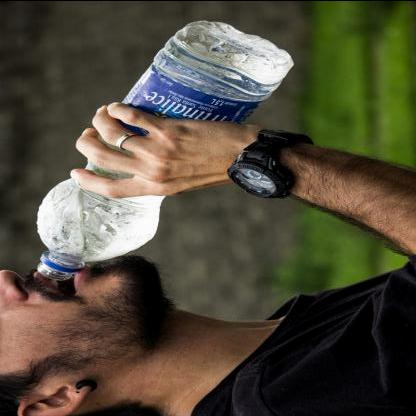bottle: (29, 0, 295, 284)
